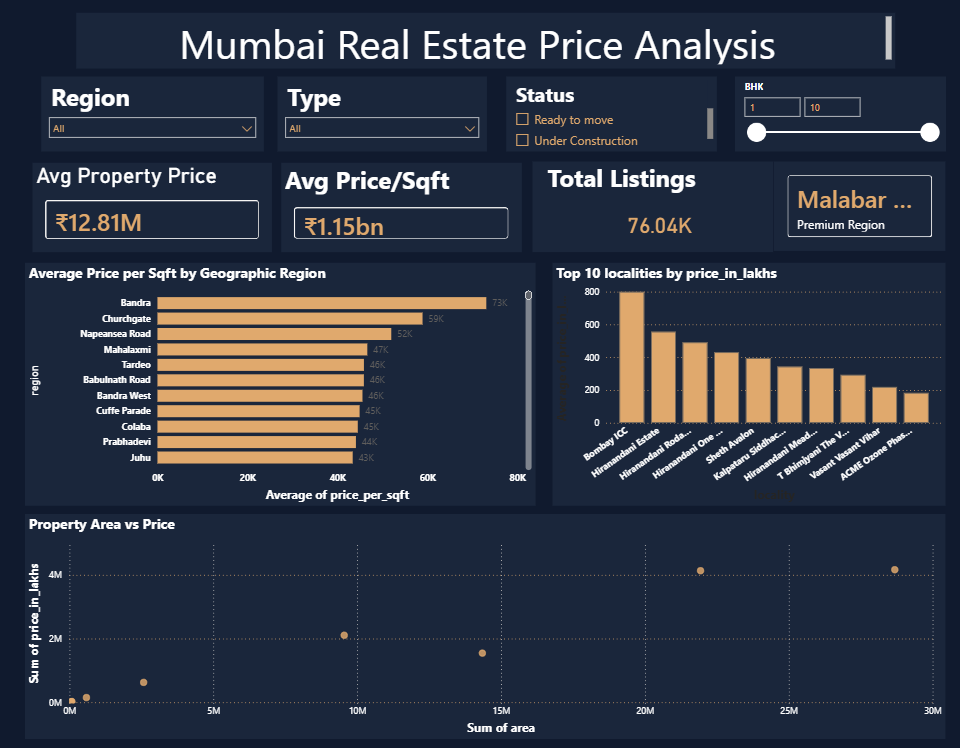

The dashboard page shown, as its layout file describes it:
{"tool":"powerbi","page":{"name":"Page 1","canvas":[1280,1000],"ordinal":0},"visuals":[{"type":"slicer","title":"Region ","fields":{"Values":["raw_data.region"]},"box":[54.8,103.2,296.8,100],"z":0},{"type":"slicer","title":"BHK","fields":{"Values":["raw_data.bhk"]},"box":[980.6,103.2,280.6,100],"z":1000},{"type":"slicer","fields":{"Values":["raw_data.status"]},"box":[674.2,103.2,280.6,100],"z":2000},{"type":"slicer","fields":{"Values":["raw_data.type"]},"box":[369.4,103.2,279,100],"z":3000},{"type":"cardVisual","title":"Avg Property Price","fields":{"Data":["Sum(raw_data.price_in_lakhs)"]},"box":[43.5,217.7,319.4,119.4],"z":4000},{"type":"cardVisual","title":"Avg Price/Sqft","fields":{"Data":["Sum(raw_data.price_per_sqft)"]},"box":[374.2,217.7,321,119.4],"z":5000},{"type":"card","title":"Total Listings","fields":{"Values":["CountNonNull(raw_data.locality)"]},"box":[709.7,216.1,321,121],"z":6000},{"type":"cardVisual","fields":{"Data":["raw_data.Premium Region"]},"box":[1032.3,216.1,229,119.4],"z":7000},{"type":"clusteredBarChart","title":"Average Price per Sqft by Geographic Region","fields":{"Category":["raw_data.region"],"Y":["Avg(raw_data.price_per_sqft)"]},"box":[33.9,351.6,680.6,324.2],"z":8000},{"type":"clusteredColumnChart","title":"Top 10 localities by  price_in_lakhs ","fields":{"Category":["raw_data.locality"],"Y":["Avg(raw_data.price_in_lakhs)"]},"box":[737.1,351.6,524.2,324.2],"z":9000},{"type":"scatterChart","title":"Property Area vs Price","fields":{"Series":["raw_data.bhk"],"X":["Sum(raw_data.area)"],"Y":["Sum(raw_data.price_in_lakhs)"]},"box":[33.9,687.1,1227.4,300],"z":10000},{"type":"textbox","box":[101.6,17.7,1091.9,74.2],"z":11000}]}

Visuals, with their boxes in screenshot pixels (x1, y1, x2, y2), scaled from the page's 1280x1000 canvas onto the 960x748 screenshot:
"Region " slicer: crop(41, 77, 264, 152)
"BHK" slicer: crop(735, 77, 946, 152)
slicer - raw_data.status: crop(506, 77, 716, 152)
slicer - raw_data.type: crop(277, 77, 486, 152)
"Avg Property Price" cardVisual: crop(33, 163, 272, 252)
"Avg Price/Sqft" cardVisual: crop(281, 163, 521, 252)
"Total Listings" card: crop(532, 162, 773, 252)
cardVisual - raw_data.Premium Region: crop(774, 162, 946, 251)
"Average Price per Sqft by Geographic Region" clusteredBarChart: crop(25, 263, 536, 505)
"Top 10 localities by  price_in_lakhs " clusteredColumnChart: crop(553, 263, 946, 505)
"Property Area vs Price" scatterChart: crop(25, 514, 946, 738)
textbox: crop(76, 13, 895, 69)
